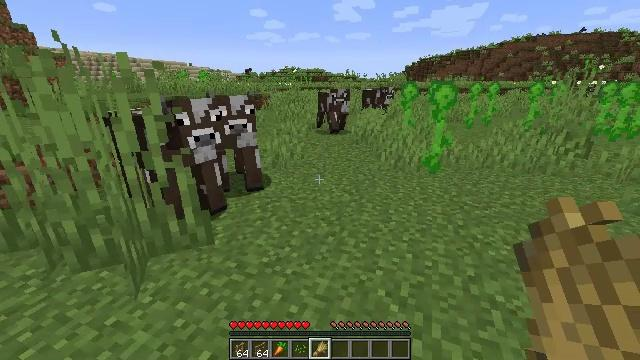cow: (103, 101, 221, 219), (220, 96, 260, 194), (318, 89, 351, 133), (361, 86, 395, 112)
